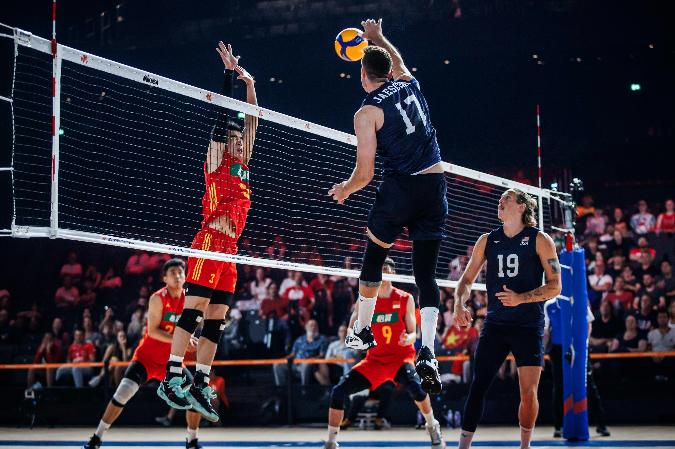ballon_volley: (333, 26, 369, 63)
